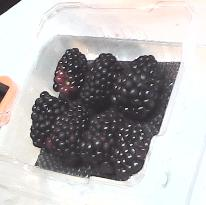berry: (111, 55, 159, 119), (43, 107, 92, 165), (80, 112, 125, 172), (77, 54, 124, 108), (30, 93, 72, 147), (110, 123, 147, 183), (53, 47, 88, 98)
